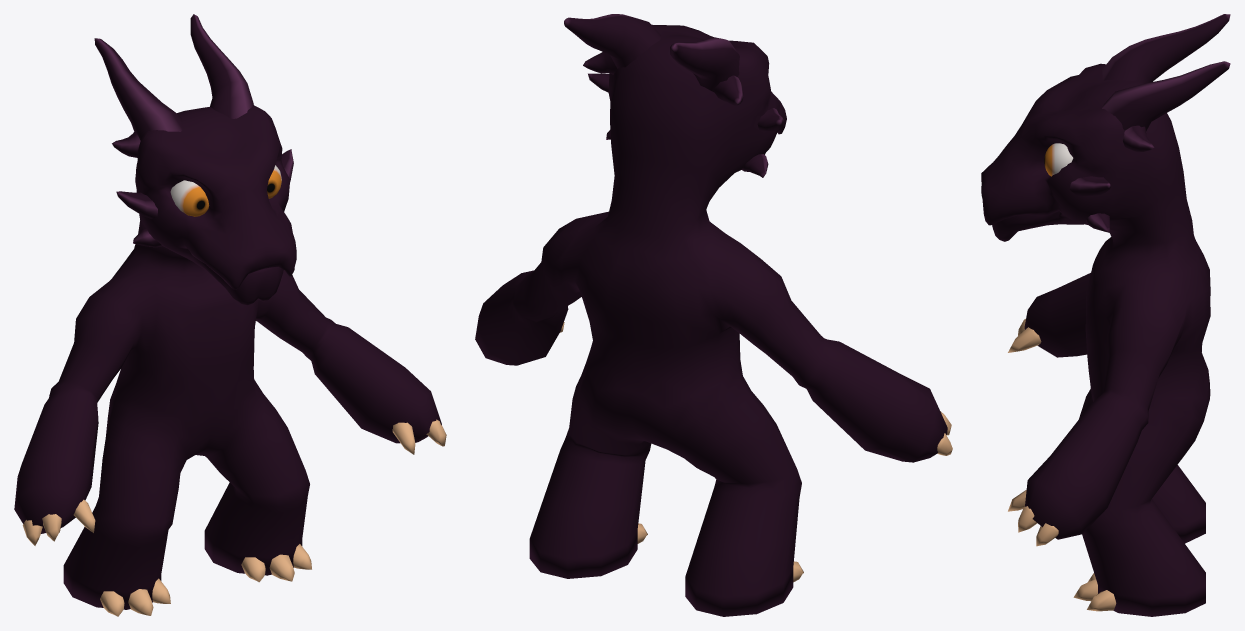
The model's file is Character_Hydra_v02.fbx.
The picture shows the model from 3 angles, left to right: view 1: azimuth 30°, elevation 25°; view 2: azimuth 150°, elevation 25°; view 3: azimuth 270°, elevation 25°; orthographic projection. The views are drawn at different scales.
Visible parts, largest first — view 1: Hydra; view 2: Hydra; view 3: Hydra.
Part boxes in pixels (box(x1,y1,x2,y2)): Hydra: box(14, 14, 446, 616); Hydra: box(475, 14, 952, 616); Hydra: box(981, 14, 1230, 616).
Size of the model in its own units: 91.2 by 108 by 46.29.
